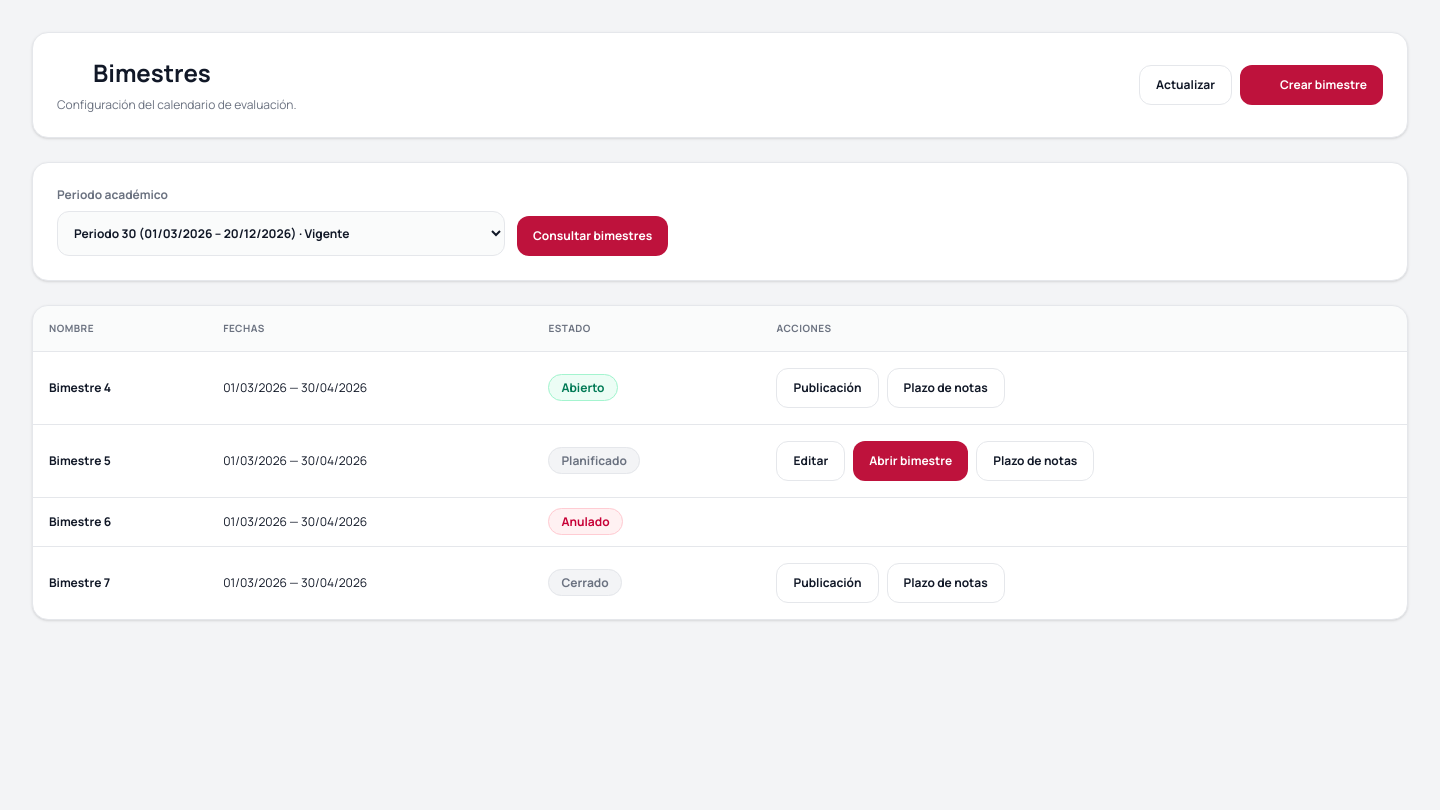
Scenario: bimesters view: DIRECTIVO opens the grade window panel read-only
What coordinates should you click on to do the following:
click the button "Plazo de notas" in the row of "Bimestre 4"
I would click on:
 (946, 388)
Its box is [886,368,1005,408].
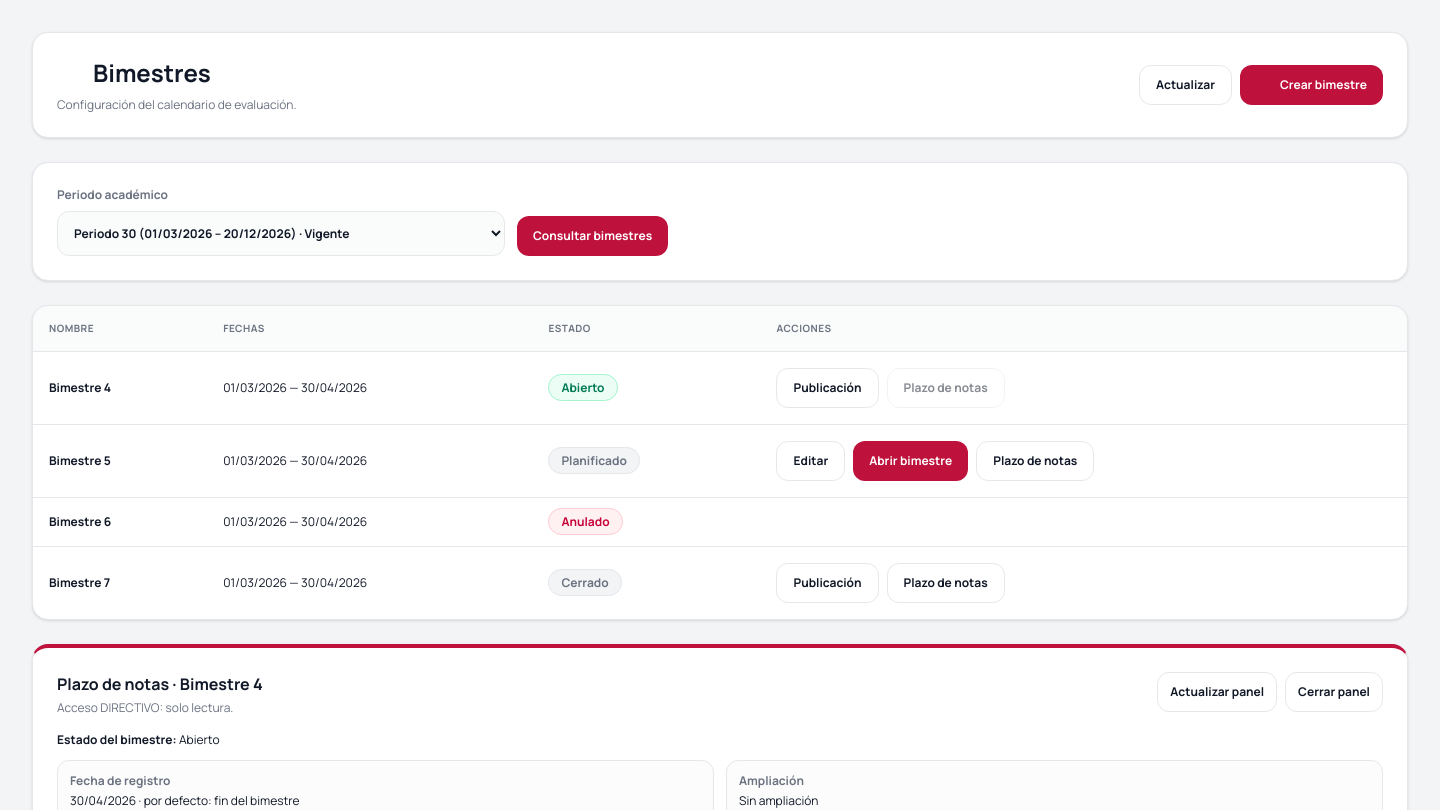
Check: the text "Plazo de notas · Bimestre 4" is shown, box [57,672,263,696]
Check: the text "Acceso DIRECTIVO: solo lectura" is shown, box [57,699,233,716]
